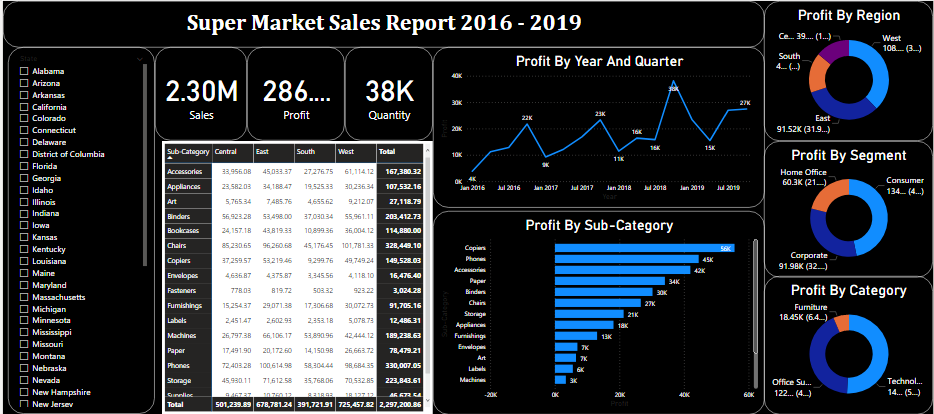

Layout of this report page (visuals, bound fields, positions):
{"tool":"powerbi","page":{"name":"Page 1","canvas":[1800,800],"ordinal":0},"visuals":[{"type":"textbox","box":[0,0,1473.8,89.9],"z":0},{"type":"donutChart","title":"Profit By Category","fields":{"Category":["Orders.Category"],"Y":["Sum(Orders.Profit)"]},"box":[1473.8,531.8,326.6,268.2],"z":1000},{"type":"donutChart","title":"Profit By Segment","fields":{"Y":["Sum(Orders.Profit)"],"Category":["Orders.Segment"]},"box":[1473.8,271.4,326.6,263.5],"z":2000},{"type":"donutChart","title":"Profit By Region","fields":{"Y":["Sum(Orders.Profit)"],"Category":["Orders.Region"]},"box":[1473.8,0,326.6,271.4],"z":3000},{"type":"barChart","title":"Profit By Sub-Category","fields":{"Category":["Orders.Sub-Category"],"Y":["Sum(Orders.Profit)"]},"box":[831.6,405.5,642.2,394.5],"z":4000},{"type":"lineChart","title":"Profit By Year And Quarter","fields":{"Y":["Sum(Orders.Profit)"],"Category":["Orders.Order Date.Variation.Date Hierarchy.Year","Orders.Order Date.Variation.Date Hierarchy.Quarter","Orders.Order Date.Variation.Date Hierarchy.Month","Orders.Order Date.Variation.Date Hierarchy.Day"]},"box":[831.6,89.9,642.2,310.8],"z":5000},{"type":"slicer","fields":{"Values":["Orders.State"]},"box":[9.5,89.9,284,710.1],"z":6000},{"type":"pivotTable","fields":{"Rows":["Orders.Sub-Category"],"Columns":["Orders.Region"],"Values":["Sum(Orders.Sales)"]},"box":[307.7,271.4,523.9,528.6],"z":7000},{"type":"card","fields":{"Values":["Sum(Orders.Sales)"]},"box":[293.5,89.9,178.3,181.5],"z":8000},{"type":"card","fields":{"Values":["Sum(Orders.Profit)"]},"box":[471.8,89.9,189.3,181.5],"z":9000},{"type":"card","fields":{"Values":["Sum(Orders.Quantity)"]},"box":[661.1,89.9,170.4,181.5],"z":10000}]}

Visuals, with their boxes in screenshot pixels (x1, y1, x2, y2), scaled from the page's 1800x800 canvas onto the 934x414 screenshot:
textbox: rect(0, 0, 765, 47)
"Profit By Category" donutChart: rect(765, 275, 933, 413)
"Profit By Segment" donutChart: rect(765, 140, 933, 277)
"Profit By Region" donutChart: rect(765, 0, 933, 140)
"Profit By Sub-Category" barChart: rect(432, 210, 765, 413)
"Profit By Year And Quarter" lineChart: rect(432, 47, 765, 207)
slicer - Orders.State: rect(5, 47, 152, 413)
pivotTable - Orders.Sub-Category x Orders.Region: rect(160, 140, 432, 413)
card - Sum(Orders.Sales): rect(152, 47, 245, 140)
card - Sum(Orders.Profit): rect(245, 47, 343, 140)
card - Sum(Orders.Quantity): rect(343, 47, 431, 140)
